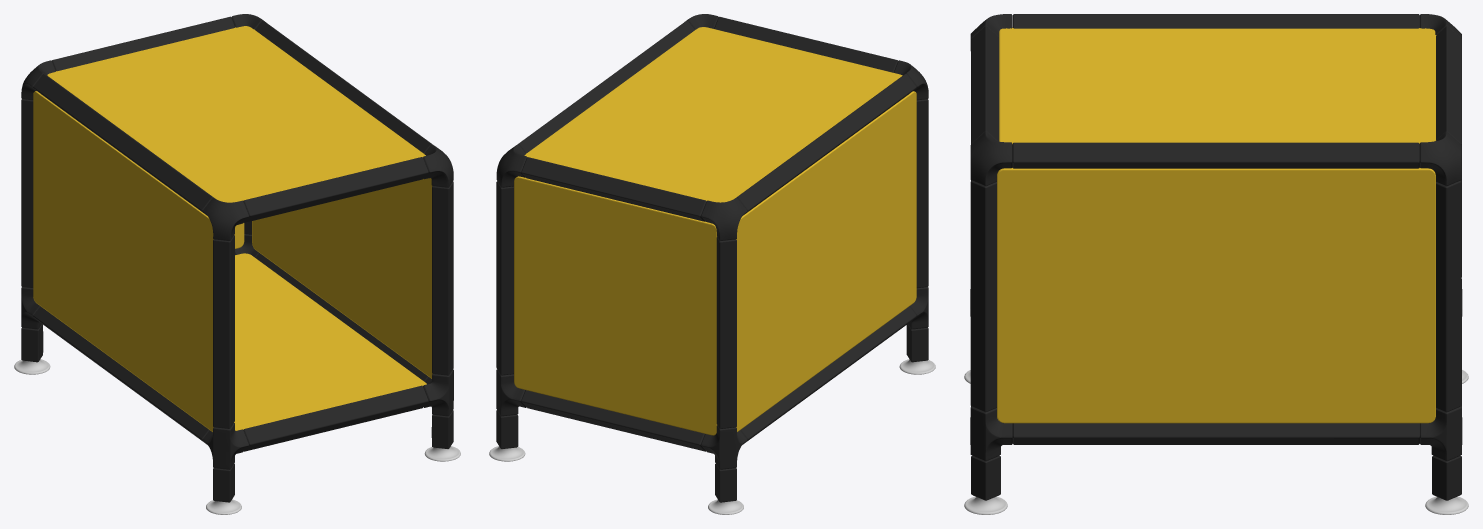
3 renders of one model, left to right at view 1: azimuth 30°, elevation 25°; view 2: azimuth 150°, elevation 25°; view 3: azimuth 270°, elevation 25°, orthographic. The views are drawn at different scales.
Parts seen in each view (by area): view 1: 229x374x229; view 2: 229x374x229; view 3: 229x374x229.
Boxes of the visible parts, x1,y1,x2,y2 form: 229x374x229: [14, 14, 460, 514]; 229x374x229: [489, 14, 935, 514]; 229x374x229: [964, 14, 1468, 514].
Bounding box in the file's own units: 0.3188 × 0.3682 × 0.4632.
